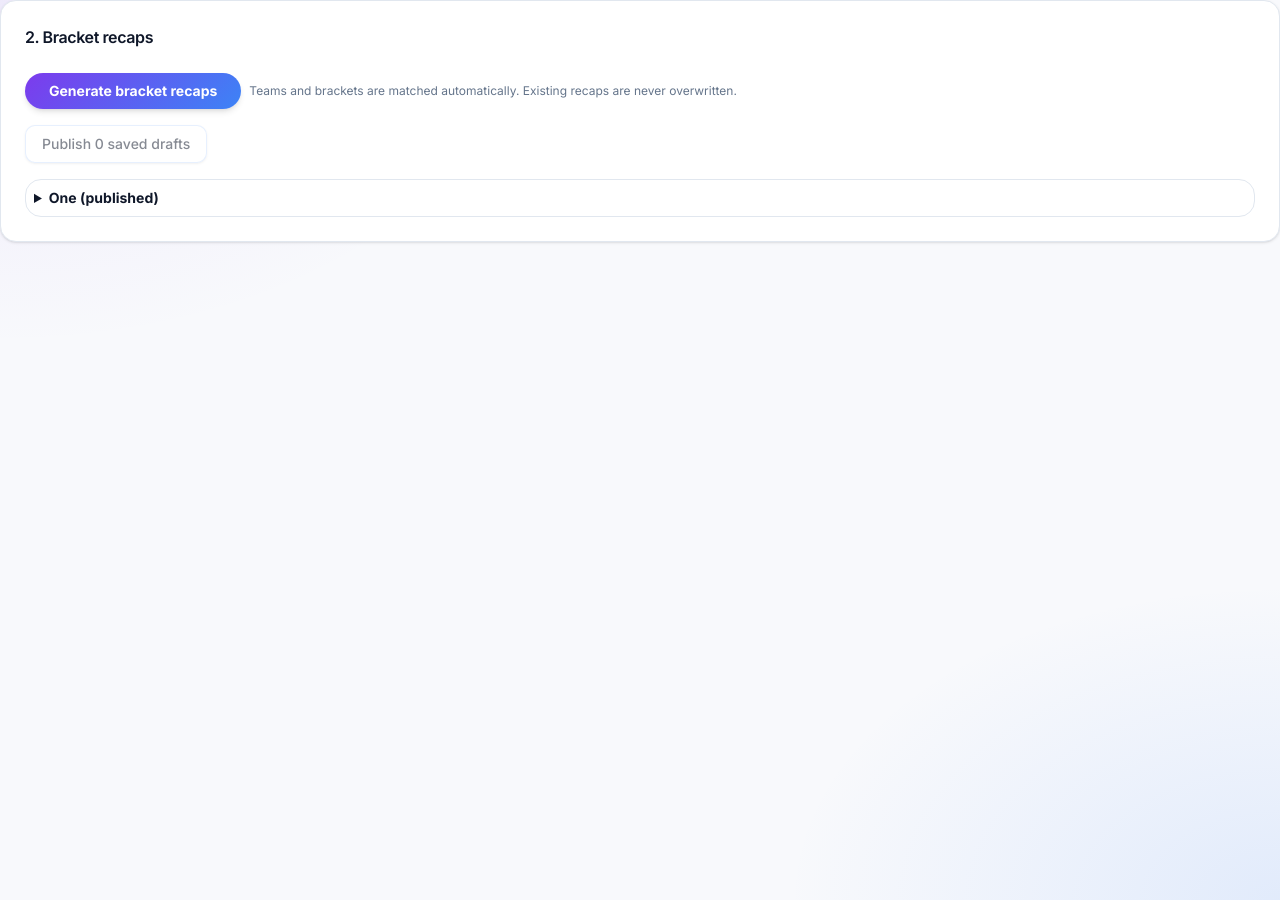
it: RecapsCard › prepares, generates all missing in one request, and retries failed keys with the same requestId
Later steps or results of the test are not shown.
Click the button with test id "btn-generate-recaps". click: coordinates (133, 91)
box: 25,73 -> 241,109
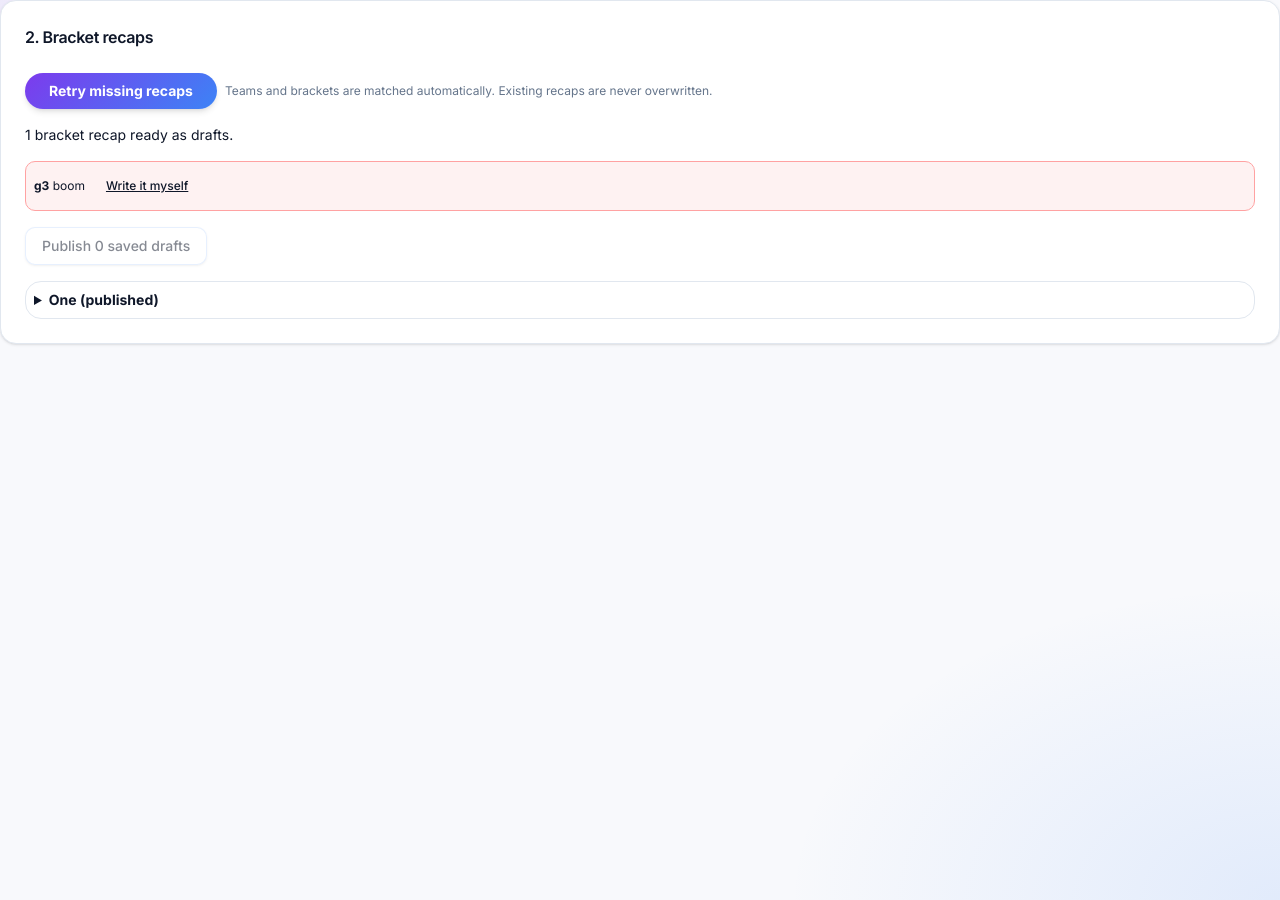
Result: the list with test id "list-generate-errors" is shown at 25,161 -> 1255,211
Result: the button with test id "btn-generate-recaps" shows "Retry" at 25,73 -> 217,109
